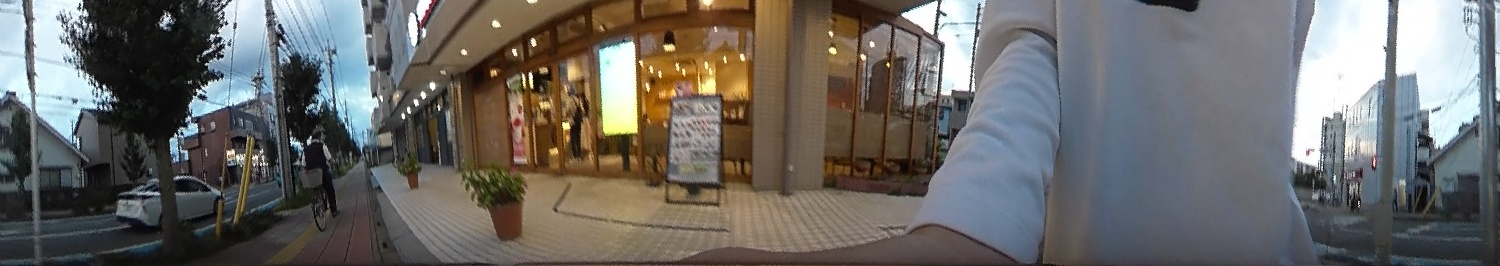difficult_person: (564, 84, 583, 154)
person: (298, 125, 341, 216)
